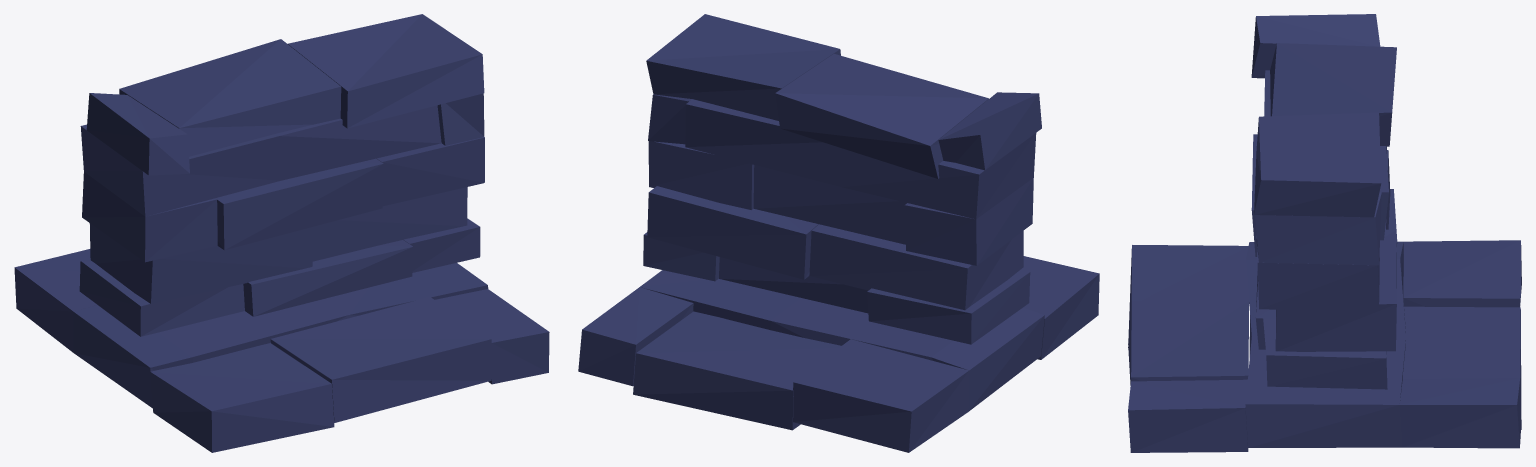
Rendered from Wall_S_Modular_WithMaterial.FBX.
3 views of the same model, side by side, from view 1: azimuth 30°, elevation 25°; view 2: azimuth 150°, elevation 25°; view 3: azimuth 270°, elevation 25° (orthographic).
Visible parts, largest first — view 1: Wall_S_Modular; view 2: Wall_S_Modular; view 3: Wall_S_Modular.
Part boxes in pixels (left/top/right/bottom): Wall_S_Modular: left=14, top=14, right=549, bottom=452; Wall_S_Modular: left=578, top=14, right=1099, bottom=452; Wall_S_Modular: left=1128, top=14, right=1521, bottom=452.
Bounding box in the file's own units: 40.63 × 31.74 × 40.5.
